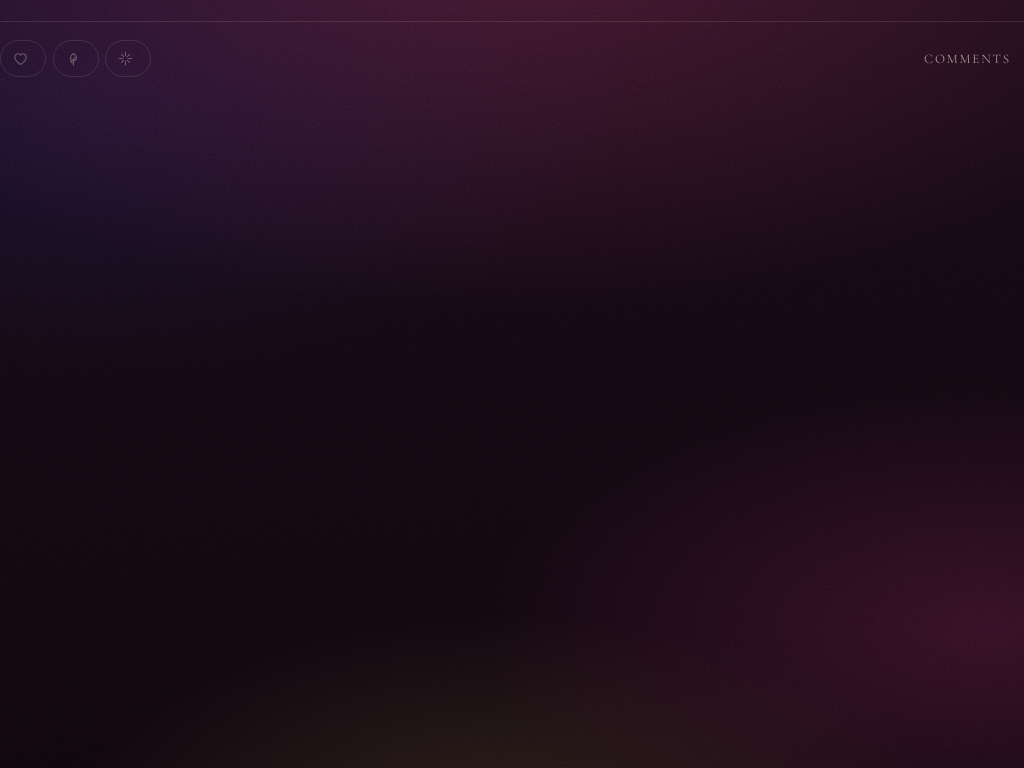
Test: comments › refuses to submit with no name, and says which field
Click the button "Comments": (968, 59) 911,39 -> 1023,78
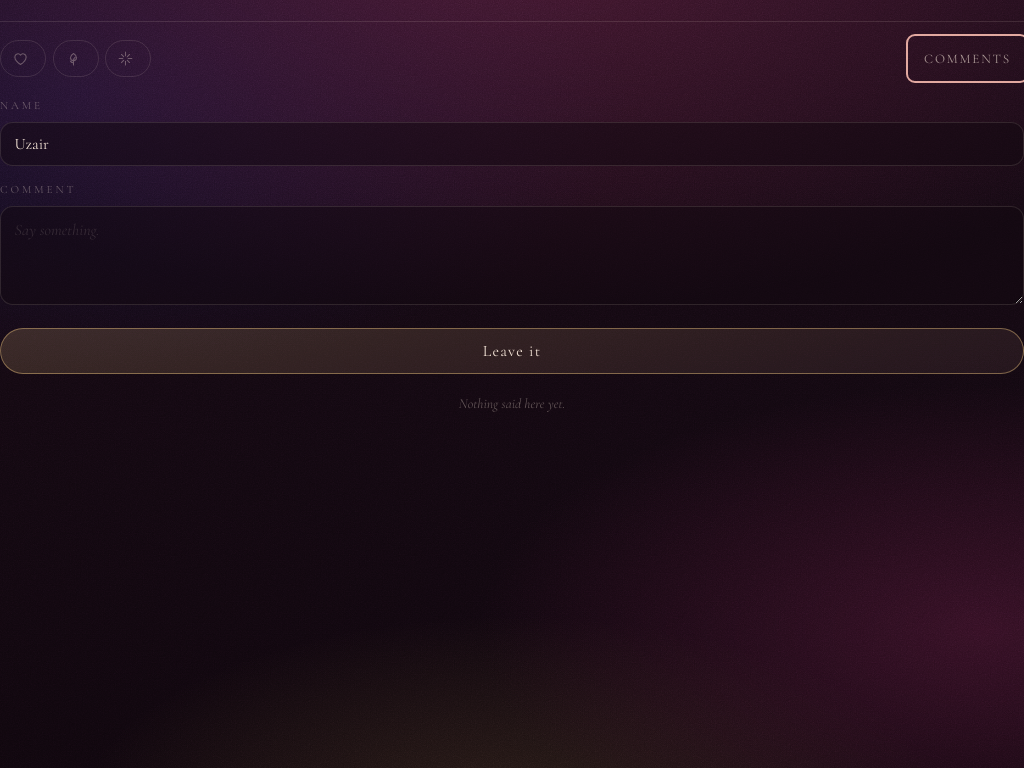
Clear the field labelled "Name": (512, 144) 0,122 -> 1023,166
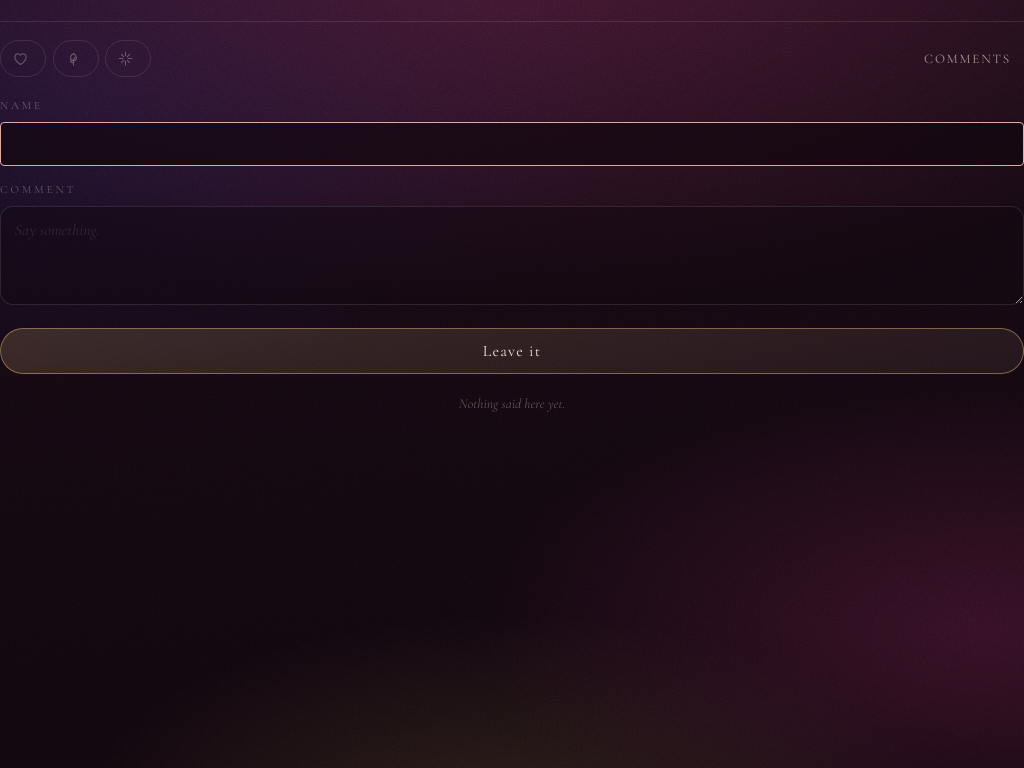
In the text box labelled "Comment": (512, 255) 0,206 -> 1023,305, type "lovely"
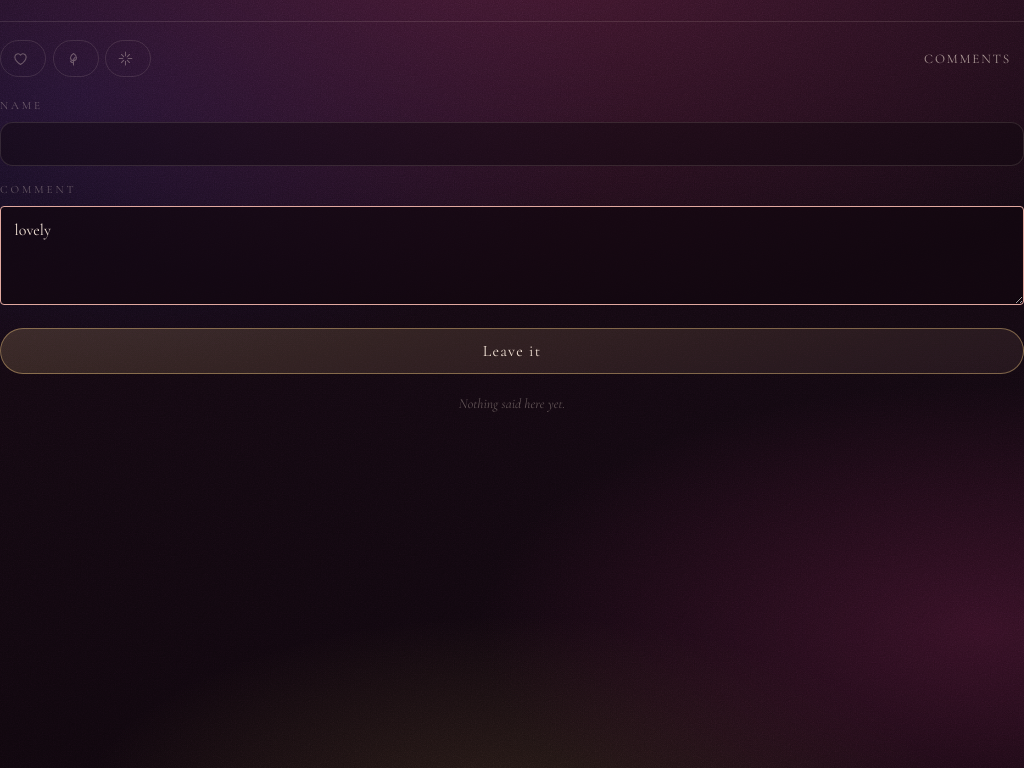
Click the button "Leave it": (512, 351) 0,328 -> 1023,374
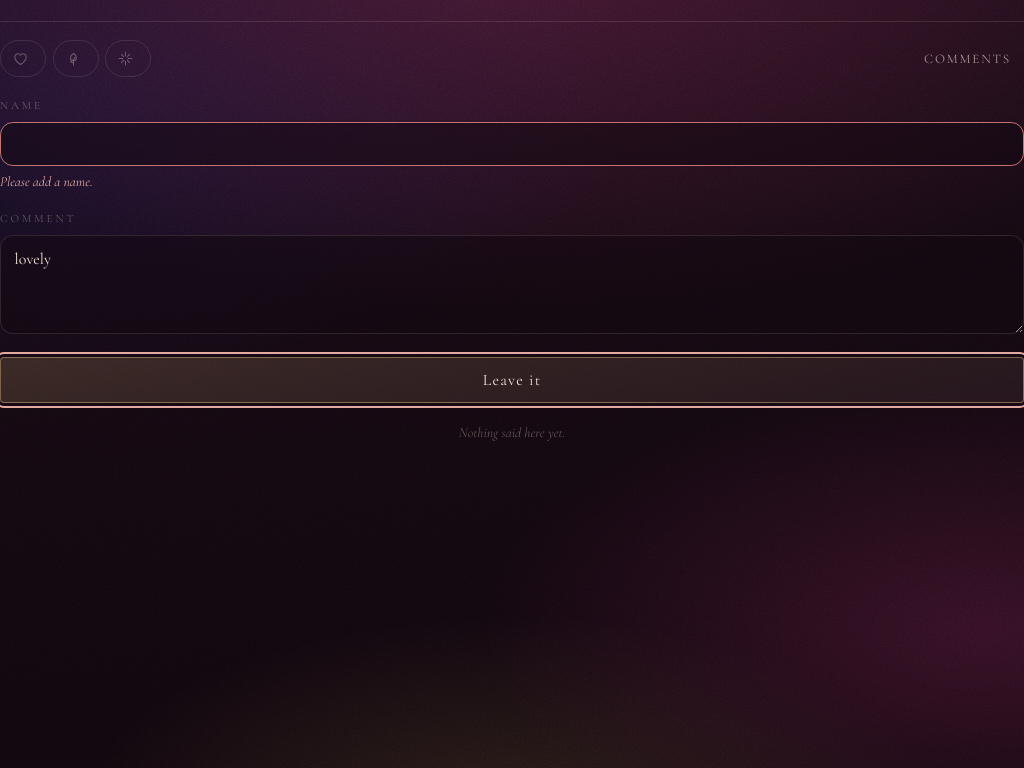
Check: the text "Please add a name." is shown, box 0,174 -> 93,190
